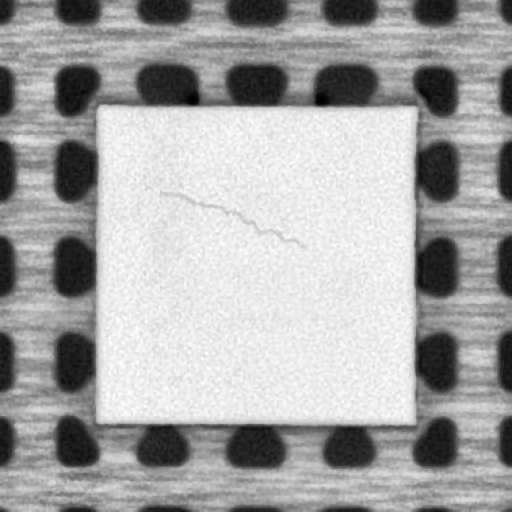DIE_CRACK: (157, 186, 309, 250)
